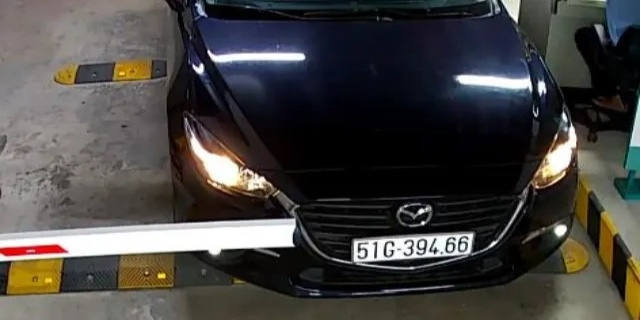bien_so: (352, 234, 472, 261)
